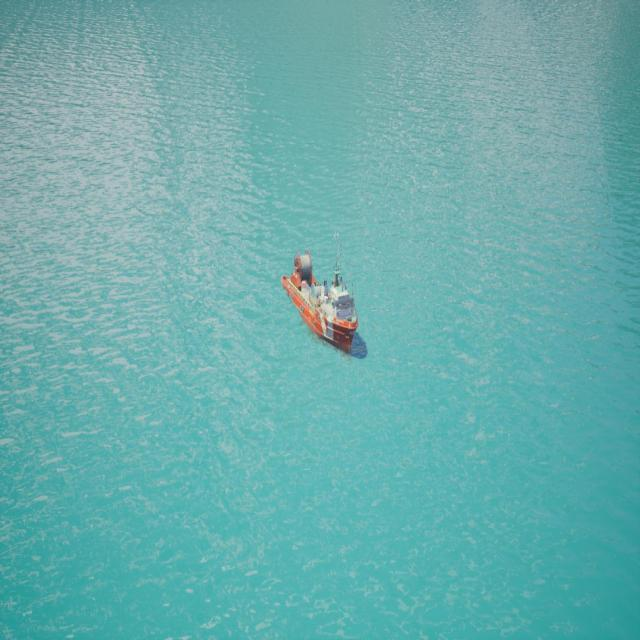tug boat: (282, 266, 364, 362)
